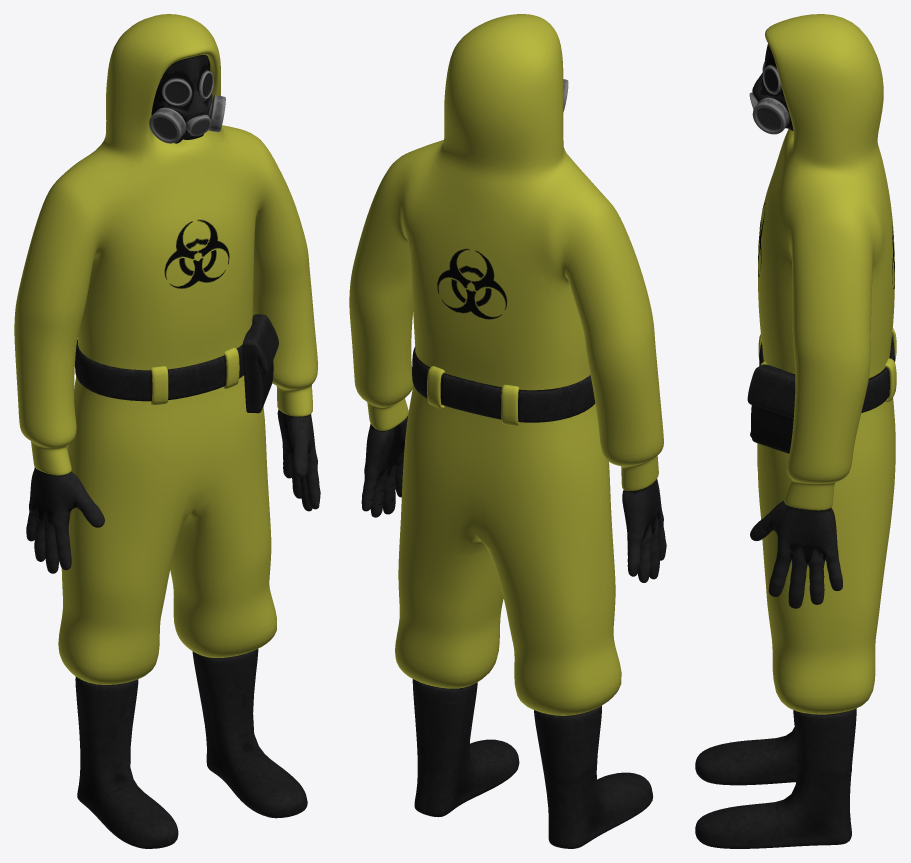
Rendered from jogador.glb.
3 views of the same model, side by side, from view 1: azimuth 30°, elevation 25°; view 2: azimuth 150°, elevation 25°; view 3: azimuth 270°, elevation 25° (orthographic). The views are drawn at different scales.
Visible parts, largest first — view 1: Cube, Cube.003, Cube.001, Cube.002, Cube.004, Plane; view 2: Cube, Cube.003, Cube.002, Plane; view 3: Cube, Cube.003, Cube.004, Cube.001, Cube.002, Plane.
Part boxes in pixels (x1=…): Cube: x1=14, y1=14, x2=320, y2=684; Cube.003: x1=75, y1=649, x2=307, y2=848; Cube.001: x1=149, y1=55, x2=225, y2=143; Cube.002: x1=75, y1=339, x2=243, y2=401; Cube.004: x1=242, y1=314, x2=278, y2=413; Plane: x1=150, y1=347, x2=239, y2=405; Cube: x1=349, y1=14, x2=666, y2=715; Cube.003: x1=412, y1=679, x2=653, y2=848; Cube.002: x1=412, y1=346, x2=595, y2=422; Plane: x1=427, y1=366, x2=519, y2=425; Cube: x1=750, y1=14, x2=895, y2=714; Cube.003: x1=695, y1=708, x2=856, y2=848; Cube.004: x1=747, y1=364, x2=795, y2=453; Cube.001: x1=749, y1=44, x2=793, y2=134; Cube.002: x1=759, y1=335, x2=894, y2=412; Plane: x1=758, y1=327, x2=896, y2=401.
Size of the model in its own units: 0.7489 by 1.9 by 0.4402.
Materials: 1 (1 with a texture image).
